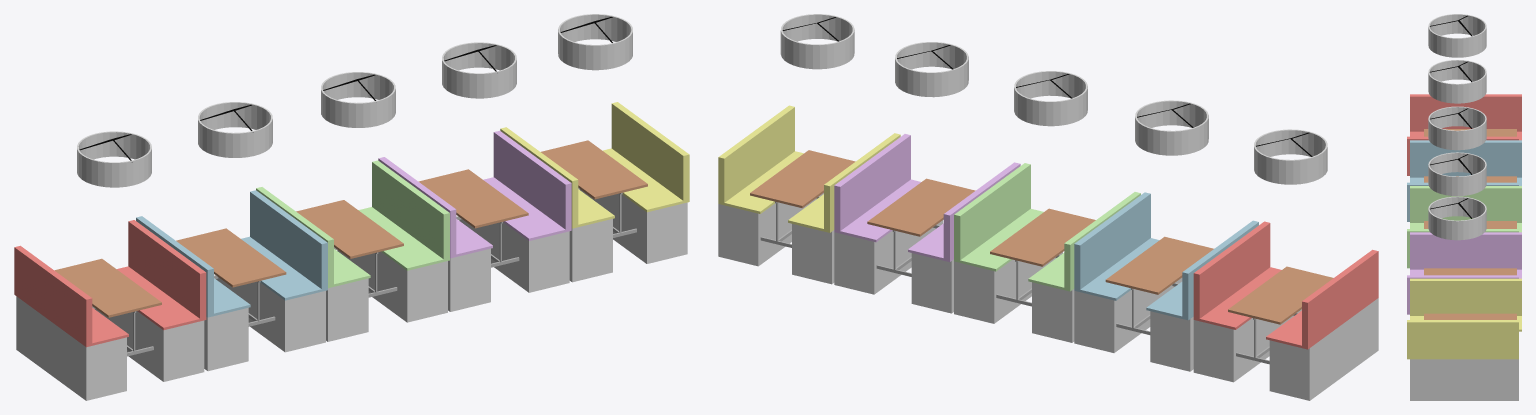
Rendered from BoothsJoined.fbx.
3 renders of one model, left to right at view 1: azimuth 30°, elevation 25°; view 2: azimuth 150°, elevation 25°; view 3: azimuth 270°, elevation 25°, orthographic. The views are drawn at different scales.
Visible parts, largest first — view 1: RedChair, BoothLights, Tables, BlueChairs, GreenChairs, PurpleChair, YellowChairs; view 2: RedChair, BoothLights, Tables, GreenChairs, BlueChairs, PurpleChair, YellowChairs; view 3: YellowChairs, BoothLights, PurpleChair, BlueChairs, RedChair, GreenChairs, Tables.
Boxes of the visible parts, x1,y1,x2,y2 form: RedChair: (14,220,206,400); BoothLights: (77,14,632,187); Tables: (54,140,647,356); BlueChairs: (136,190,327,371); GreenChairs: (256,160,449,341); PurpleChair: (378,130,571,311); YellowChairs: (500,102,689,282); RedChair: (1193,221,1378,400); BoothLights: (780,14,1327,184); Tables: (750,150,1333,364); GreenChairs: (954,163,1140,342); BlueChairs: (1074,192,1258,371); PurpleChair: (834,134,1020,313); YellowChairs: (718,105,900,284); YellowChairs: (1407,278,1521,400); BoothLights: (1428,14,1486,240); PurpleChair: (1407,232,1521,314); BlueChairs: (1407,140,1521,221); RedChair: (1407,94,1521,175); GreenChairs: (1407,186,1521,268); Tables: (1424,129,1516,319).
Size of the model in its own units: 1160 by 414 by 247.
